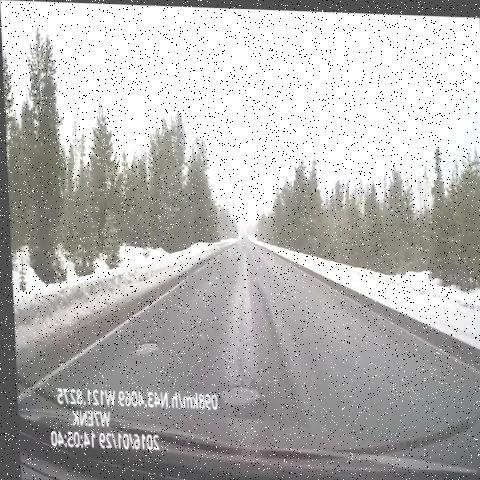pothole: (205, 364, 268, 421), (123, 325, 166, 369)
